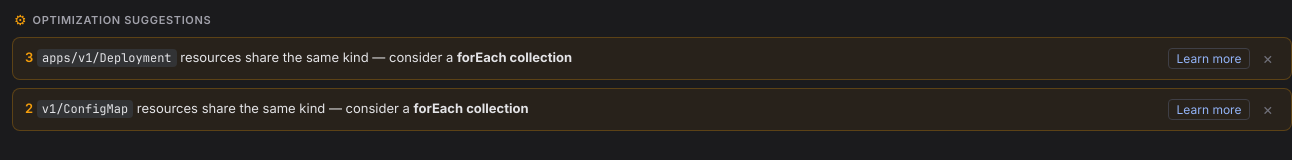
Test: OptimizationAdvisor — US2 (multiple groups) › dismissing the first group leaves the second visible
What coordinates should you click on to do the following:
click the button with test id "advisor-item-Deployment-dismiss"
I would click on:
 (1268, 58)
Its box is [1256,48,1279,68].
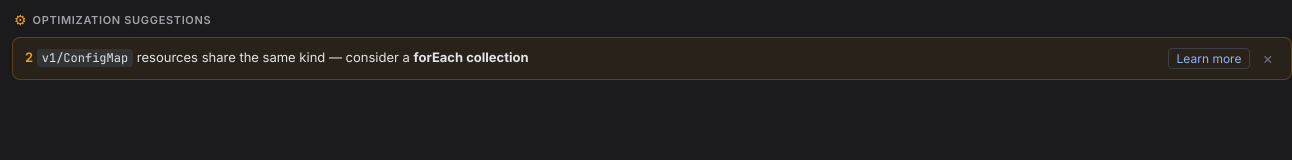
expect the element with test id "advisor-item-ConfigMap" is shown: met, box [12,36,1291,80]
expect the element with test id "advisor-item-Deployment" is gone: met
